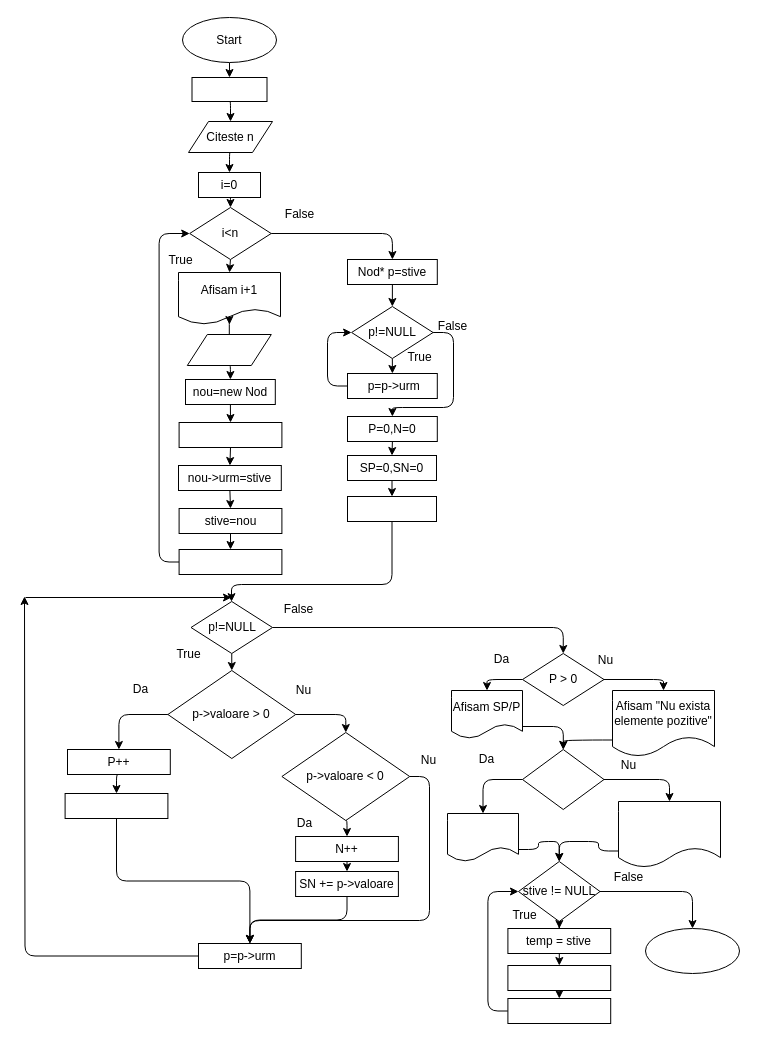
Image size: 757x1041. Some labels were removed from this diagram. Here are the shapes that lost their labels. From the top down, the centre of each, then its label:
[229,89]: stive=NULL
[228,350]: Citeste x
[230,435]: nou->valoare=x
[391,509]: p=stive
[230,561]: i++
[563,779]: N > 0
[116,805]: SP += p->valoare
[482,837]: Afisam SN/N
[669,834]: Afisam "Nu exista elemente negative"
[692,951]: STOP
[559,977]: stive = stive->urm
[559,1011]: delete temp
